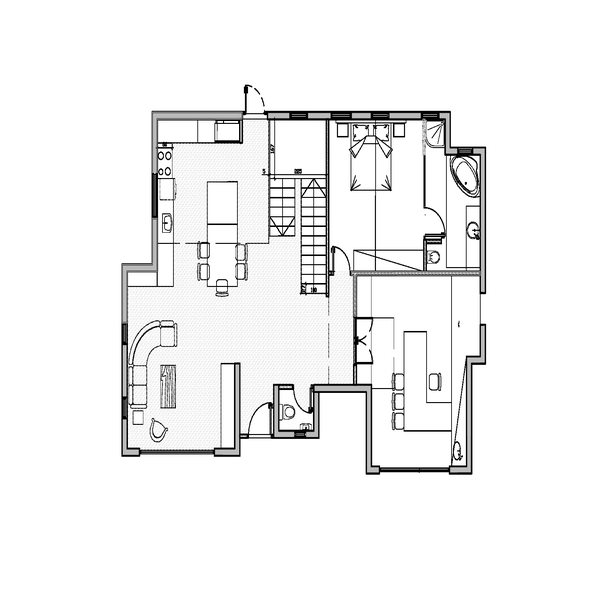door: (352, 314, 387, 378), (416, 204, 451, 242), (247, 401, 275, 442), (330, 243, 355, 279)
room: (139, 104, 337, 280), (324, 103, 486, 277), (349, 264, 477, 477), (114, 266, 244, 462), (241, 272, 351, 443)
wall: (473, 137, 489, 294), (361, 376, 384, 477), (151, 104, 245, 122), (353, 266, 479, 279), (229, 363, 245, 456), (310, 374, 334, 436), (467, 354, 478, 474), (267, 377, 286, 440), (147, 110, 164, 175), (116, 345, 136, 398), (117, 265, 134, 327), (307, 378, 373, 393), (118, 424, 145, 460), (440, 107, 454, 165), (122, 256, 157, 276), (151, 215, 161, 275), (264, 109, 290, 124), (303, 109, 327, 120), (355, 109, 371, 120), (388, 112, 420, 117)
